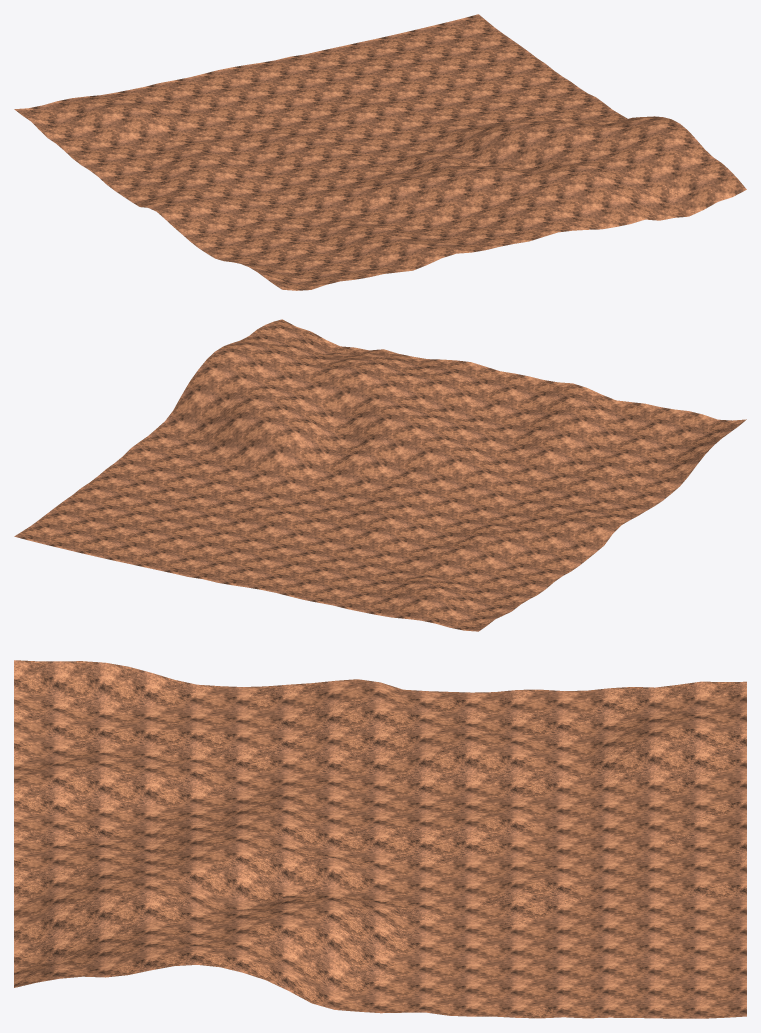
The model's file is terrain_04_05.dae.
The picture shows the model from 3 angles, top to bottom: view 1: azimuth 30°, elevation 25°; view 2: azimuth 150°, elevation 25°; view 3: azimuth 270°, elevation 25°; orthographic projection. The views are drawn at different scales.
Parts seen in each view (by area): view 1: terrain_04_05-node; view 2: terrain_04_05-node; view 3: terrain_04_05-node.
Part boxes in pixels (bbox=[...]): terrain_04_05-node: bbox=[14, 14, 746, 290]; terrain_04_05-node: bbox=[14, 319, 746, 631]; terrain_04_05-node: bbox=[14, 660, 746, 1018].
Bounding box in the file's own units: 128 × 128 × 10.88.
Materials: 1 (1 with a texture image).
